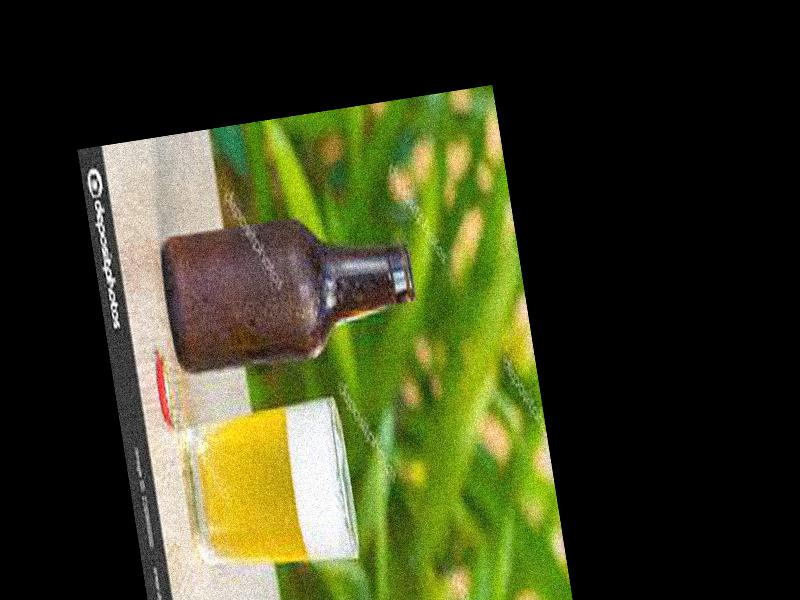Beer: (156, 207, 420, 376)
